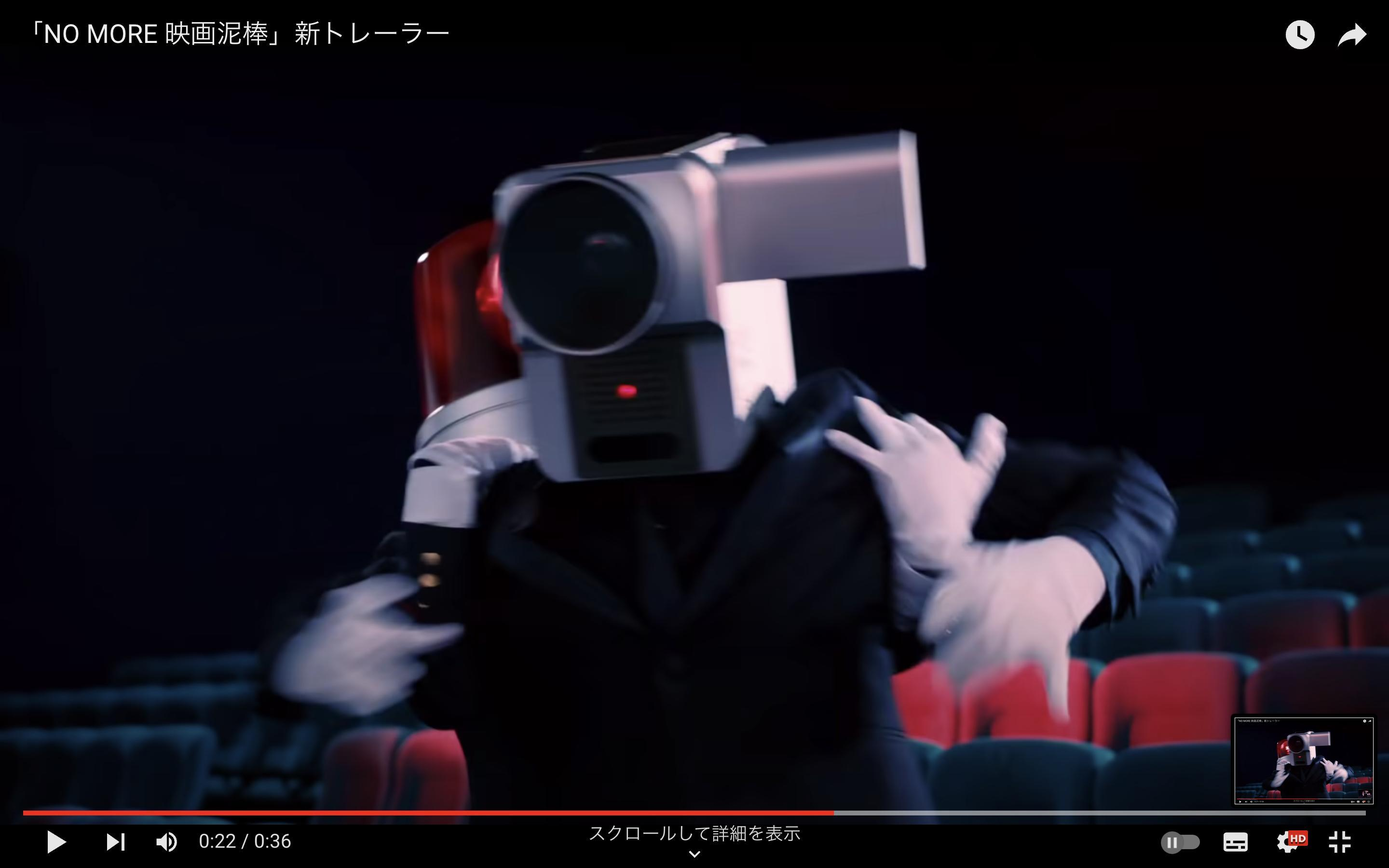no more kid: (484, 121, 944, 495)
